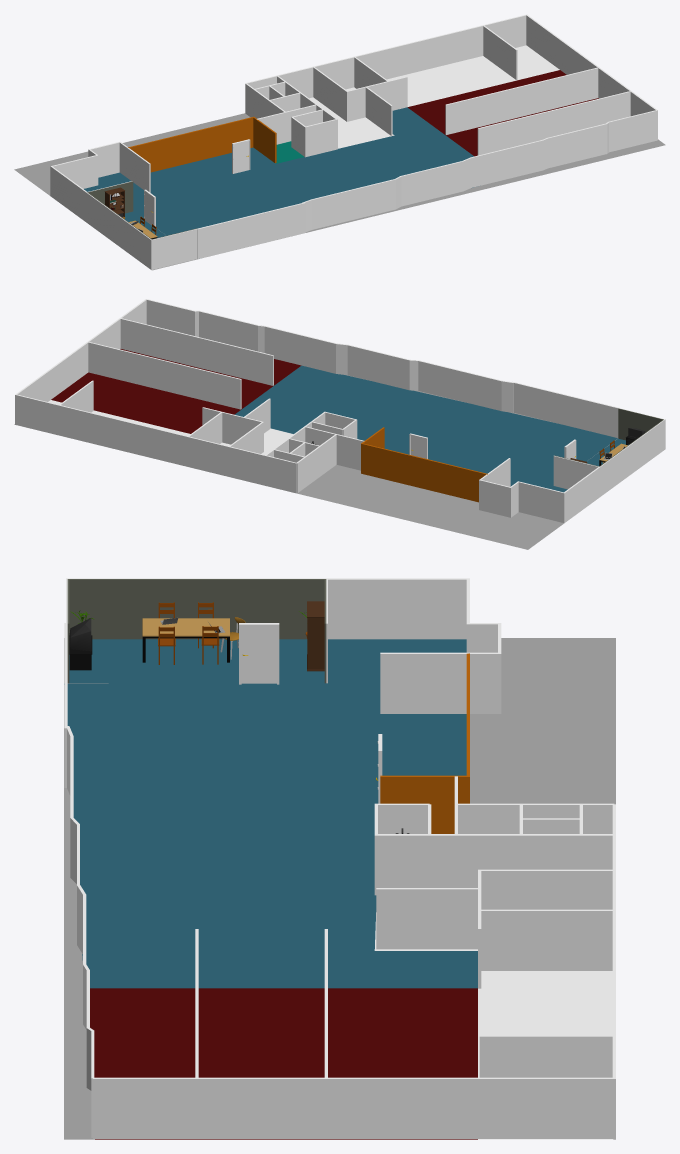
File: secWitoutWall.obj
3 views of the same model, one above another, from view 1: azimuth 30°, elevation 25°; view 2: azimuth 150°, elevation 25°; view 3: azimuth 270°, elevation 25° (orthographic). The views are drawn at different scales.
Parts seen in each view (by area): view 1: room_53_309, wall_38_227, wall_39_233, wall_45_269, ground_1, wall_26_155, wall_1_5, room_68_322, wall_28_167, wall_32_191, room_56_312, wall_6_34 (+34 smaller); view 2: room_53_309, ground_1, wall_38_226, wall_39_232, room_69_323, wall_45_268, wall_1_4, wall_26_154, wall_28_166, wall_32_190, wall_37_221, wall_6_34 (+26 smaller); view 3: room_53_309, ground_1, wall_37_220, room_69_323, wall_6_35, room_70_324, room_71_325, room_68_322, wall_7_41, wall_42_250, room_52_308, wall_44_263 (+21 smaller).
Boxes of the visible parts, <box> form: room_53_309: <box>133,126,473,235</box>; wall_38_227: <box>445,68,598,134</box>; wall_39_233: <box>478,92,630,155</box>; wall_45_269: <box>356,26,483,79</box>; ground_1: <box>14,113,665,270</box>; wall_26_155: <box>197,203,305,259</box>; wall_1_5: <box>129,117,253,172</box>; room_68_322: <box>386,56,517,106</box>; wall_28_167: <box>312,179,395,229</box>; wall_32_191: <box>471,140,543,187</box>; room_56_312: <box>150,147,276,193</box>; wall_6_34: <box>86,193,151,269</box>; room_53_309: <box>234,365,617,488</box>; ground_1: <box>14,375,617,549</box>; wall_38_226: <box>88,342,241,409</box>; wall_39_232: <box>120,319,273,385</box>; room_69_323: <box>51,372,240,433</box>; wall_45_268: <box>59,406,188,466</box>; wall_1_4: <box>361,444,486,502</box>; wall_26_154: <box>513,383,618,437</box>; wall_28_166: <box>418,361,501,410</box>; wall_32_190: <box>264,326,335,373</box>; wall_37_221: <box>50,300,146,399</box>; wall_6_34: <box>600,419,665,496</box>; room_53_309: <box>64,683,376,988</box>; ground_1: <box>64,638,615,1139</box>; wall_37_220: <box>93,1079,479,1138</box>; room_69_323: <box>328,988,477,1139</box>; wall_6_35: <box>69,579,324,639</box>; room_70_324: <box>198,988,327,1139</box>; room_71_325: <box>90,988,197,1139</box>; room_68_322: <box>478,971,612,1077</box>; wall_7_41: <box>328,579,466,639</box>; wall_42_250: <box>479,1079,615,1138</box>; room_52_308: <box>69,639,323,683</box>; wall_44_263: <box>481,911,612,970</box>.
Size of the model in its own units: 2696 by 150 by 1253.
